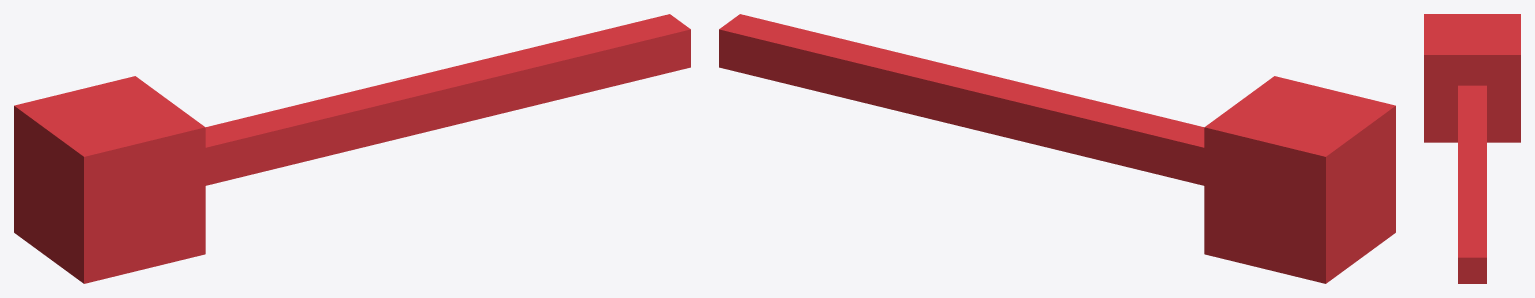
File: ScaleGizmoX.fbx
3 views of the same model, side by side, from view 1: azimuth 30°, elevation 25°; view 2: azimuth 150°, elevation 25°; view 3: azimuth 270°, elevation 25° (orthographic). The views are drawn at different scales.
Visible parts, largest first — view 1: Cube.002; view 2: Cube.002; view 3: Cube.002.
Boxes of the visible parts, x1,y1,x2,y2 form: Cube.002: [14, 14, 690, 283]; Cube.002: [719, 14, 1395, 283]; Cube.002: [1424, 14, 1520, 283].
Size of the model in its own units: 260 by 50 by 50.
